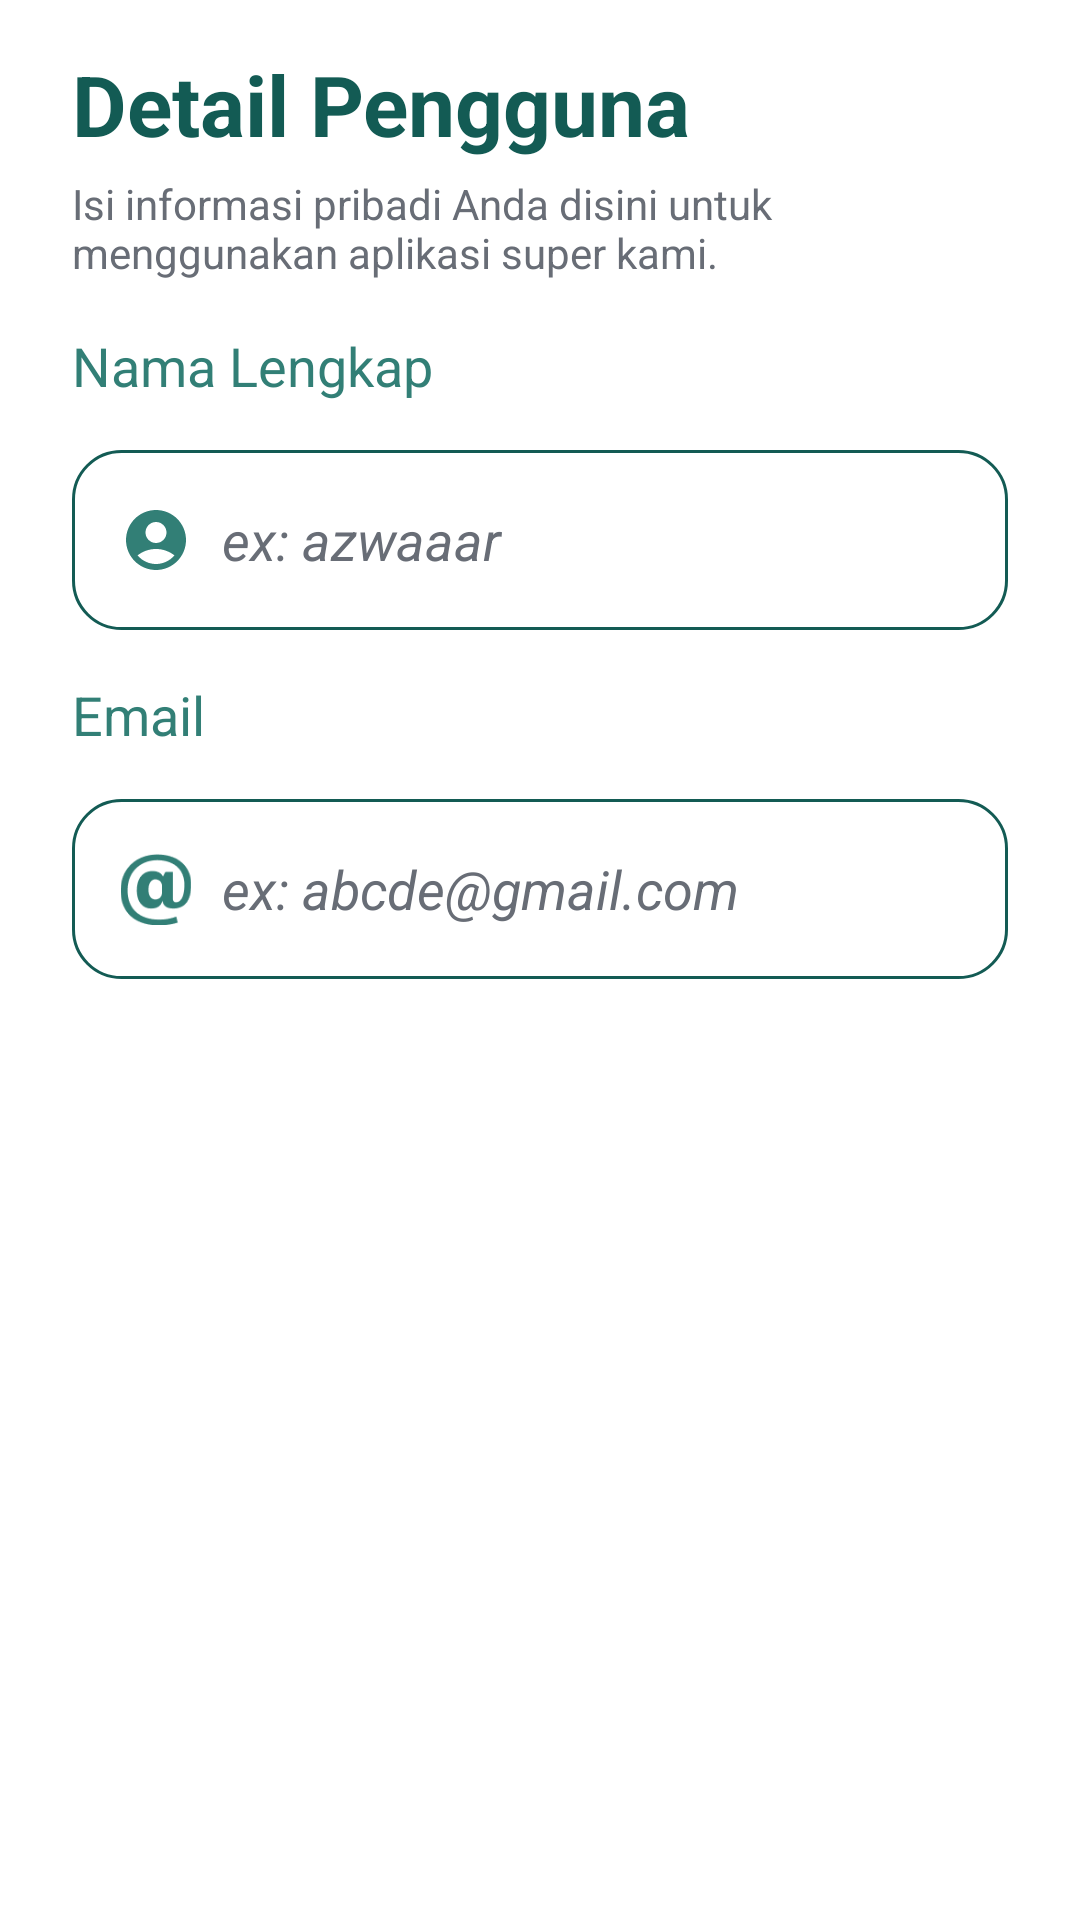

Icons on this 1080*1920 Android screen, each with the point to tap as point (x, y):
account circle: point (156, 540)
